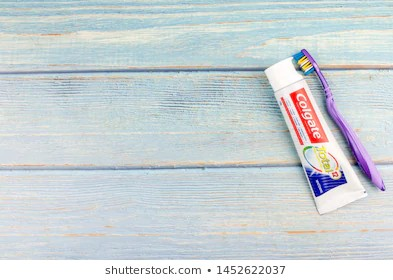colgate-total-150gm: (259, 53, 366, 217)
toothbrush: (292, 36, 339, 112)
